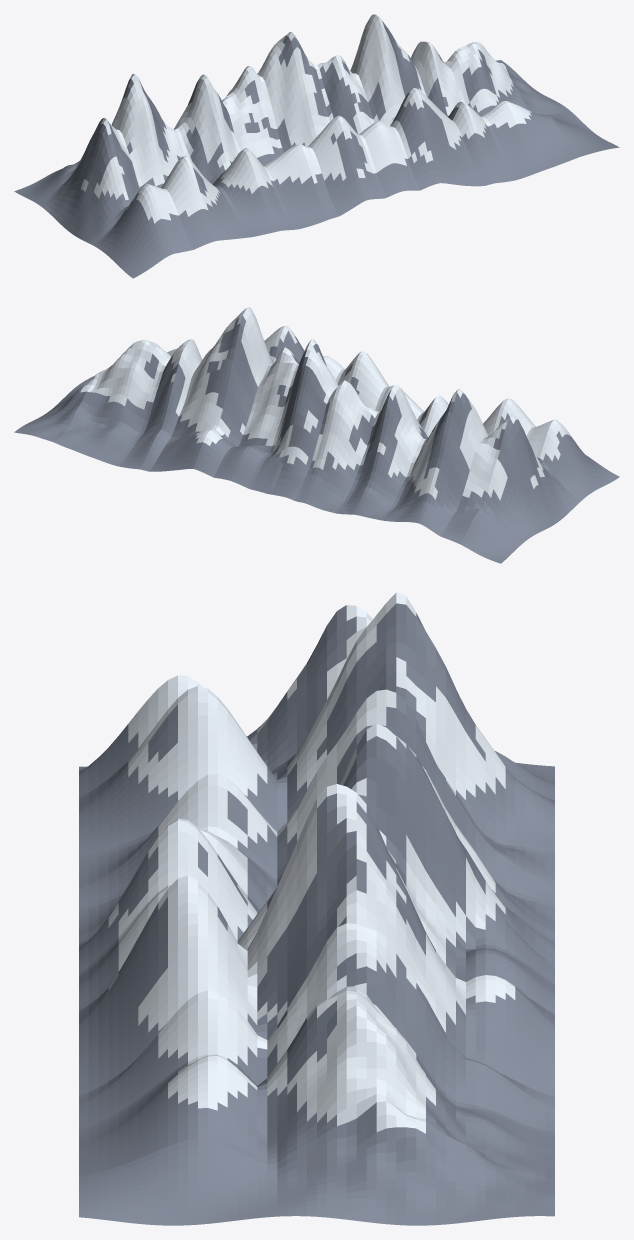
Rendered from Ridge3.fbx.
3 renders of one model, top to bottom at view 1: azimuth 30°, elevation 25°; view 2: azimuth 150°, elevation 25°; view 3: azimuth 270°, elevation 25°, orthographic. The views are drawn at different scales.
Visible parts, largest first — view 1: LayeredAlpineRidge; view 2: LayeredAlpineRidge; view 3: LayeredAlpineRidge.
Part boxes in pixels (x1,y1,x2,y2): LayeredAlpineRidge: [14, 14, 619, 278]; LayeredAlpineRidge: [14, 307, 619, 563]; LayeredAlpineRidge: [79, 592, 554, 1225].
Bounding box in the file's own units: 1700 × 472 × 720.
